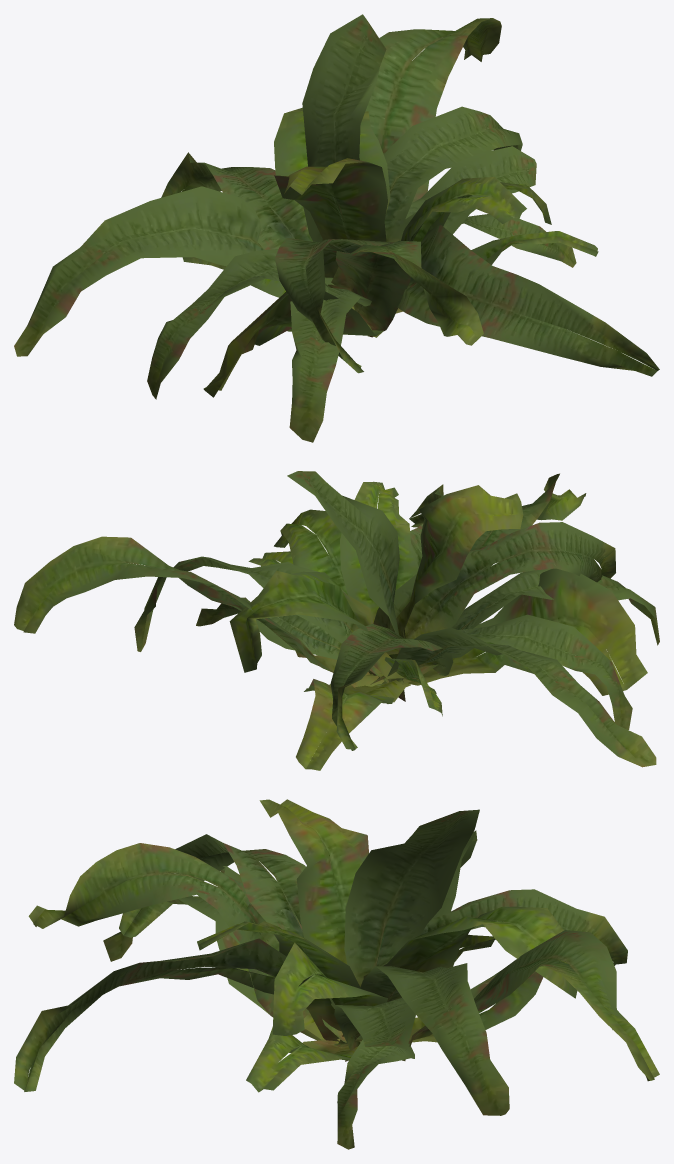
The model's file is fern_02_b.glb.
3 renders of one model, top to bottom at view 1: azimuth 30°, elevation 25°; view 2: azimuth 150°, elevation 25°; view 3: azimuth 270°, elevation 25°, orthographic. The views are drawn at different scales.
Visible parts, largest first — view 1: fern_02_b; view 2: fern_02_b; view 3: fern_02_b.
Boxes of the visible parts, x1,y1,x2,y2 form: fern_02_b: (14,14,659,442); fern_02_b: (14,471,659,770); fern_02_b: (14,799,659,1149).
Bounding box in the file's own units: 0.9903 × 0.4261 × 0.895.
1 material, 1 textured.
